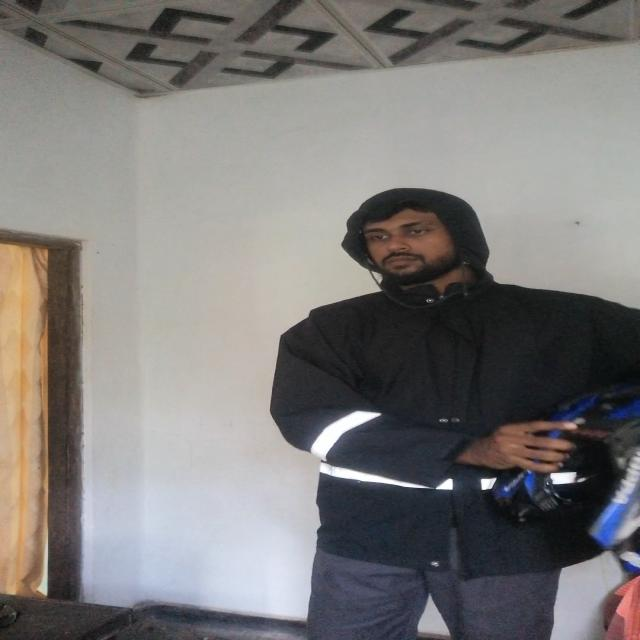Jacket_Wearer: (271, 286, 640, 567)
Person: (284, 195, 640, 632)
